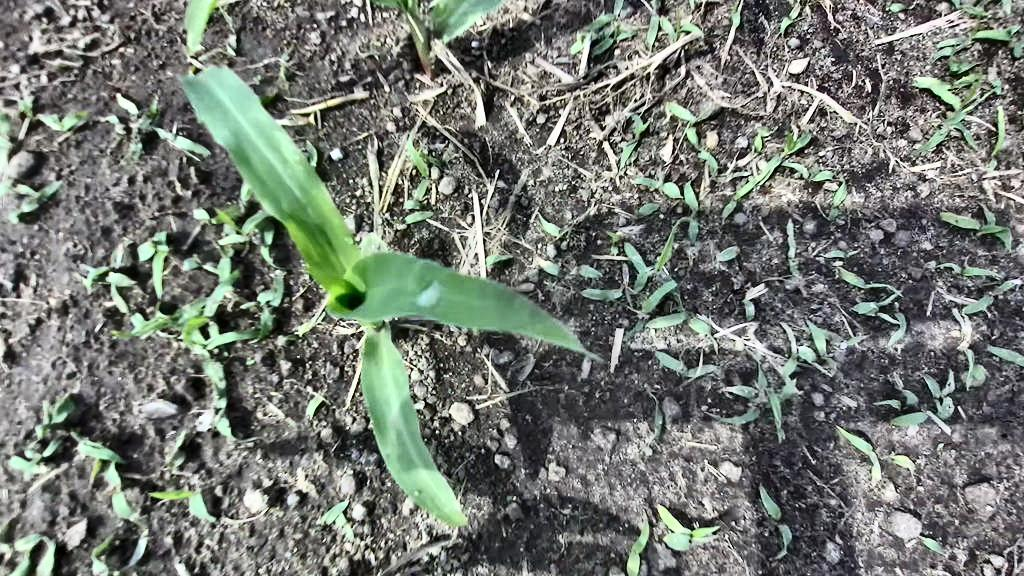BroWeed: (935, 199, 1020, 253), (834, 413, 889, 487), (713, 161, 772, 226), (146, 475, 224, 524), (5, 172, 68, 225), (648, 502, 720, 547), (648, 349, 728, 389), (195, 265, 251, 322), (630, 160, 686, 217), (207, 178, 262, 236), (93, 459, 140, 526), (30, 387, 85, 444), (11, 89, 68, 143), (809, 171, 864, 226), (689, 147, 751, 195), (216, 205, 275, 255), (196, 356, 237, 426), (681, 305, 728, 364), (918, 82, 979, 127), (832, 266, 906, 303), (150, 123, 214, 163), (65, 431, 130, 469), (582, 16, 639, 59), (620, 305, 690, 340), (802, 310, 839, 374), (623, 509, 657, 576), (79, 246, 125, 293), (656, 2, 702, 49), (78, 259, 139, 294), (622, 236, 658, 294), (211, 410, 258, 454), (704, 399, 763, 433), (634, 276, 684, 316), (793, 339, 838, 382), (0, 176, 56, 209), (120, 526, 156, 576), (700, 450, 746, 489), (941, 115, 986, 153), (850, 289, 905, 320), (203, 323, 261, 352), (749, 483, 789, 525), (579, 277, 635, 307), (760, 376, 805, 413), (907, 125, 953, 161), (764, 384, 791, 445), (85, 533, 122, 576), (924, 36, 977, 66), (246, 306, 282, 350), (148, 231, 170, 301), (654, 224, 678, 288), (886, 372, 923, 413), (935, 260, 1003, 282), (672, 208, 710, 247), (778, 121, 815, 161), (955, 328, 978, 391), (799, 318, 844, 350), (401, 135, 433, 180), (154, 297, 207, 324), (289, 463, 323, 505), (879, 446, 922, 479), (912, 72, 986, 91), (621, 102, 657, 141), (254, 221, 282, 271), (919, 369, 950, 414), (752, 148, 788, 186), (316, 493, 351, 532), (239, 476, 273, 515), (139, 90, 169, 134), (530, 210, 571, 242), (177, 310, 210, 349), (957, 290, 997, 322), (411, 140, 447, 175), (8, 452, 45, 486), (96, 106, 134, 139), (666, 101, 716, 126), (131, 396, 179, 422), (971, 23, 1023, 47), (608, 132, 640, 171), (766, 521, 795, 564), (784, 217, 801, 290), (301, 384, 329, 428), (957, 360, 993, 394), (722, 377, 764, 405), (123, 112, 146, 163), (56, 103, 96, 132), (112, 88, 144, 124), (935, 368, 956, 422), (258, 498, 292, 531), (776, 347, 812, 378), (240, 286, 277, 316), (568, 259, 605, 289), (990, 104, 1010, 159), (220, 4, 240, 57), (103, 282, 133, 317), (177, 324, 218, 349), (915, 532, 954, 558), (679, 178, 703, 220), (679, 121, 709, 154), (40, 426, 69, 460), (805, 160, 839, 189), (9, 546, 41, 576), (886, 310, 910, 350), (662, 534, 718, 551), (161, 450, 191, 481), (394, 207, 436, 229), (647, 391, 663, 448), (778, 155, 813, 181), (215, 237, 235, 282), (890, 409, 929, 432), (565, 26, 591, 60), (267, 269, 289, 309), (13, 530, 51, 553), (712, 241, 744, 268), (589, 19, 622, 45), (531, 255, 565, 280), (435, 141, 464, 170), (332, 511, 357, 544), (662, 282, 687, 315), (656, 131, 681, 164), (139, 314, 180, 334), (974, 196, 998, 229), (36, 537, 56, 576), (643, 13, 662, 53), (215, 203, 238, 236), (947, 54, 980, 77), (604, 226, 628, 257), (752, 363, 769, 404), (123, 310, 147, 338), (864, 308, 901, 326), (818, 247, 862, 262), (115, 236, 135, 268), (205, 318, 224, 351), (132, 240, 158, 264), (985, 546, 1009, 572), (169, 178, 196, 201), (484, 249, 515, 269), (683, 238, 705, 266), (0, 136, 15, 176), (698, 368, 722, 393), (306, 520, 332, 543), (714, 380, 737, 406), (85, 457, 103, 490), (353, 532, 374, 560), (304, 138, 322, 170), (275, 327, 300, 349), (0, 515, 14, 554), (872, 395, 903, 412), (179, 252, 203, 273), (219, 289, 240, 313), (846, 330, 874, 348), (211, 485, 231, 510), (411, 177, 431, 202), (295, 107, 321, 126), (42, 401, 54, 442), (201, 256, 224, 277), (170, 553, 191, 576), (138, 328, 178, 340), (753, 122, 779, 140), (191, 206, 212, 228), (21, 438, 42, 460), (252, 214, 275, 234), (746, 344, 766, 367), (633, 201, 660, 218), (217, 511, 241, 530), (622, 162, 645, 181), (740, 297, 758, 321), (936, 35, 969, 48), (212, 344, 232, 364), (612, 162, 628, 187), (292, 321, 313, 340), (637, 145, 656, 166), (750, 131, 767, 154), (188, 342, 212, 358), (552, 47, 572, 66), (990, 75, 1006, 98), (728, 5, 744, 28), (925, 562, 951, 576), (328, 145, 347, 164), (720, 178, 739, 197), (902, 422, 920, 442), (36, 457, 57, 474), (362, 546, 378, 568), (624, 147, 640, 169), (402, 199, 429, 211), (0, 547, 14, 569), (415, 527, 432, 545), (979, 560, 998, 576), (151, 479, 176, 491), (919, 145, 939, 160), (728, 337, 745, 354), (108, 329, 134, 340), (0, 111, 12, 134), (173, 428, 186, 449), (707, 129, 720, 150), (427, 544, 445, 559), (922, 257, 938, 273), (280, 61, 291, 84), (277, 118, 308, 126), (947, 54, 961, 71), (985, 157, 999, 173), (278, 49, 293, 63), (251, 72, 266, 86), (609, 564, 626, 576), (243, 354, 257, 368), (999, 0, 1012, 15), (650, 0, 665, 13), (168, 335, 181, 347), (680, 15, 695, 25), (197, 53, 209, 63), (794, 365, 805, 375), (690, 0, 702, 9), (936, 442, 944, 455), (960, 0, 977, 6), (187, 64, 195, 76), (394, 223, 407, 230), (177, 342, 187, 351), (829, 260, 844, 266)
Maize: (63, 31, 604, 538), (183, 0, 507, 74)
